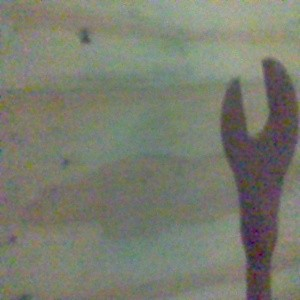spanner: (220, 57, 300, 300)
